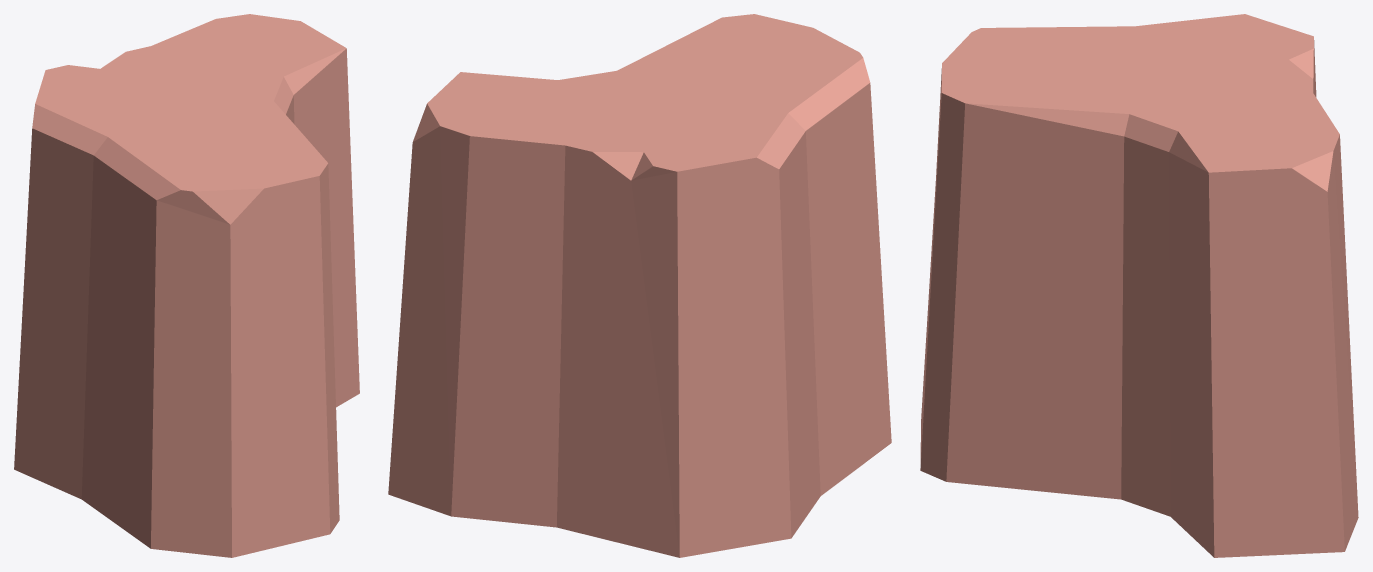
File: Plane_030_Vlad.fbx
3 views of the same model, side by side, from view 1: azimuth 30°, elevation 25°; view 2: azimuth 150°, elevation 25°; view 3: azimuth 270°, elevation 25° (orthographic). The views are drawn at different scales.
Parts seen in each view (by area): view 1: Plane.030; view 2: Plane.030; view 3: Plane.030.
Boxes of the visible parts, left/top/right/bottom form: Plane.030: left=14, top=14, right=359, bottom=557; Plane.030: left=388, top=14, right=891, bottom=557; Plane.030: left=920, top=14, right=1358, bottom=557.
Bounding box in the file's own units: 199 × 200 × 209.
